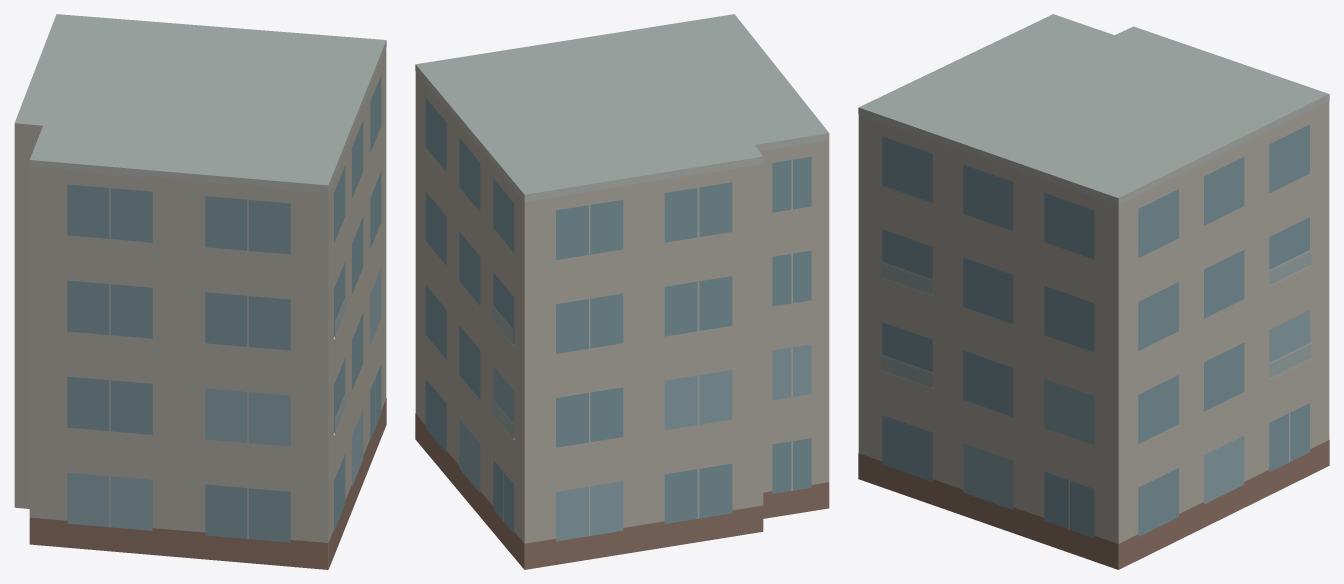
Rendered from survey-upis-32693090.glb.
3 renders of one model, left to right at view 1: azimuth 30°, elevation 25°; view 2: azimuth 150°, elevation 25°; view 3: azimuth 270°, elevation 25°, orthographic. The views are drawn at different scales.
Visible parts, largest first — view 1: survey-upis-32693090.tmp; view 2: survey-upis-32693090.tmp; view 3: survey-upis-32693090.tmp.
Boxes of the visible parts, x1,y1,x2,y2 form: survey-upis-32693090.tmp: (14,14,386,569); survey-upis-32693090.tmp: (415,14,829,569); survey-upis-32693090.tmp: (858,14,1329,569).
Size of the model in its own units: 13.67 by 12.85 by 14.76.
